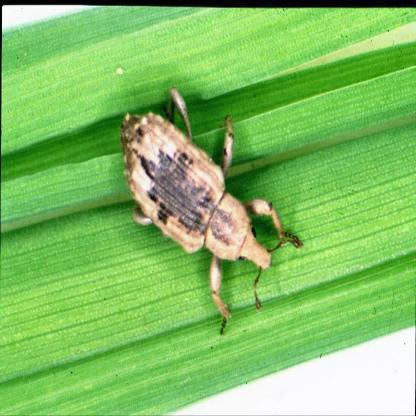rice-bug: (118, 86, 272, 308)
